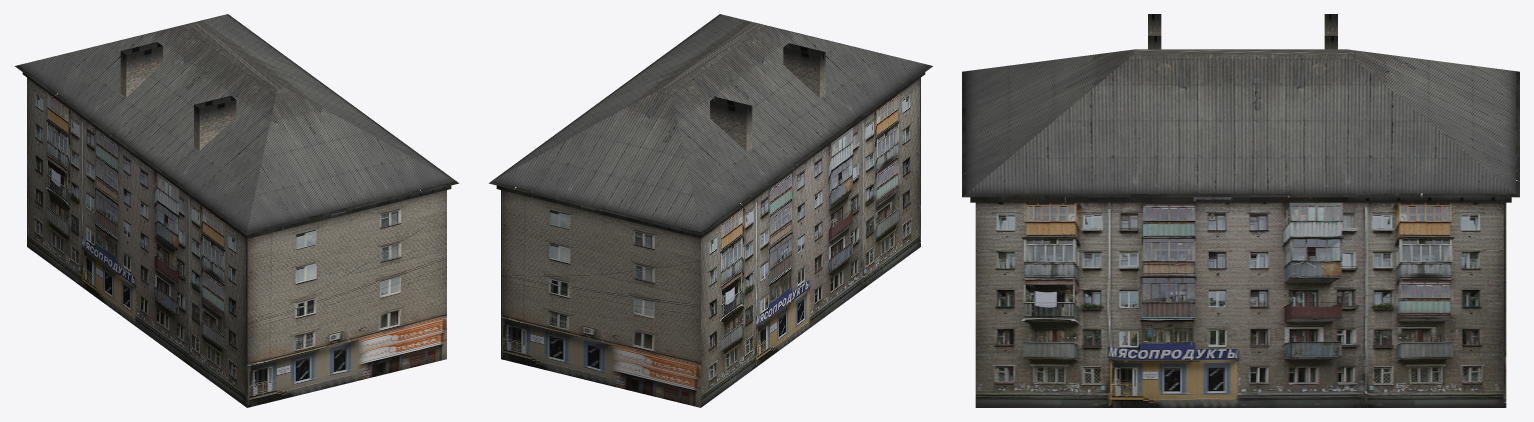
Rendered from sibir_dom_5et2.FBX.
3 views of the same model, side by side, from view 1: azimuth 30°, elevation 25°; view 2: azimuth 150°, elevation 25°; view 3: azimuth 270°, elevation 25° (orthographic). The views are drawn at different scales.
Parts seen in each view (by area): view 1: sibir_dom_5et2; view 2: sibir_dom_5et2; view 3: sibir_dom_5et2.
Boxes of the visible parts, bbox=[...] form: sibir_dom_5et2: bbox=[15, 14, 458, 407]; sibir_dom_5et2: bbox=[489, 14, 932, 407]; sibir_dom_5et2: bbox=[962, 14, 1519, 407].
Bounding box in the file's own units: 10.27 × 19.29 × 11.34.
